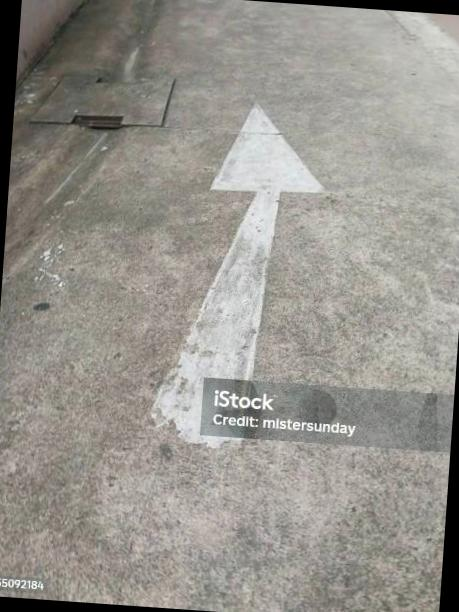faded_road_lines: (122, 78, 331, 473)
